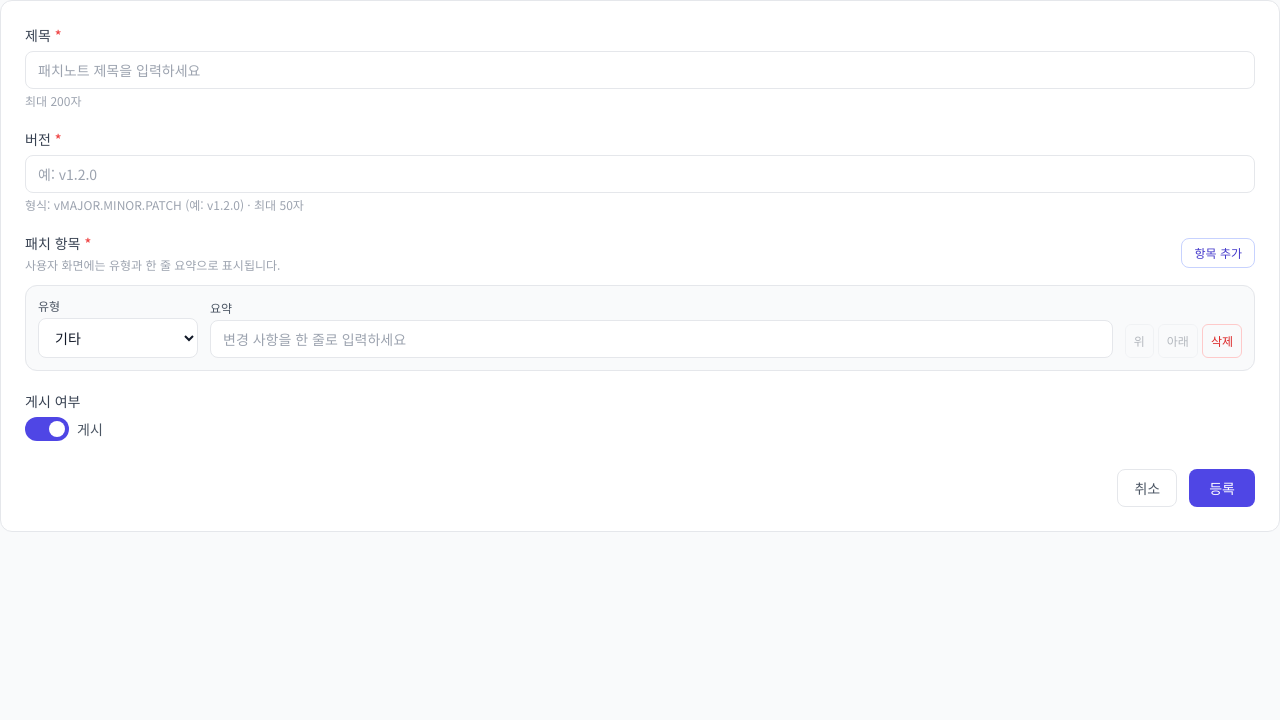
PatchNoteForm › 행별 필수값과 버전 형식을 검증한다
Type "배포 안내" into the field labelled "제목" at coordinates (640, 70), box [25,51,1255,89]
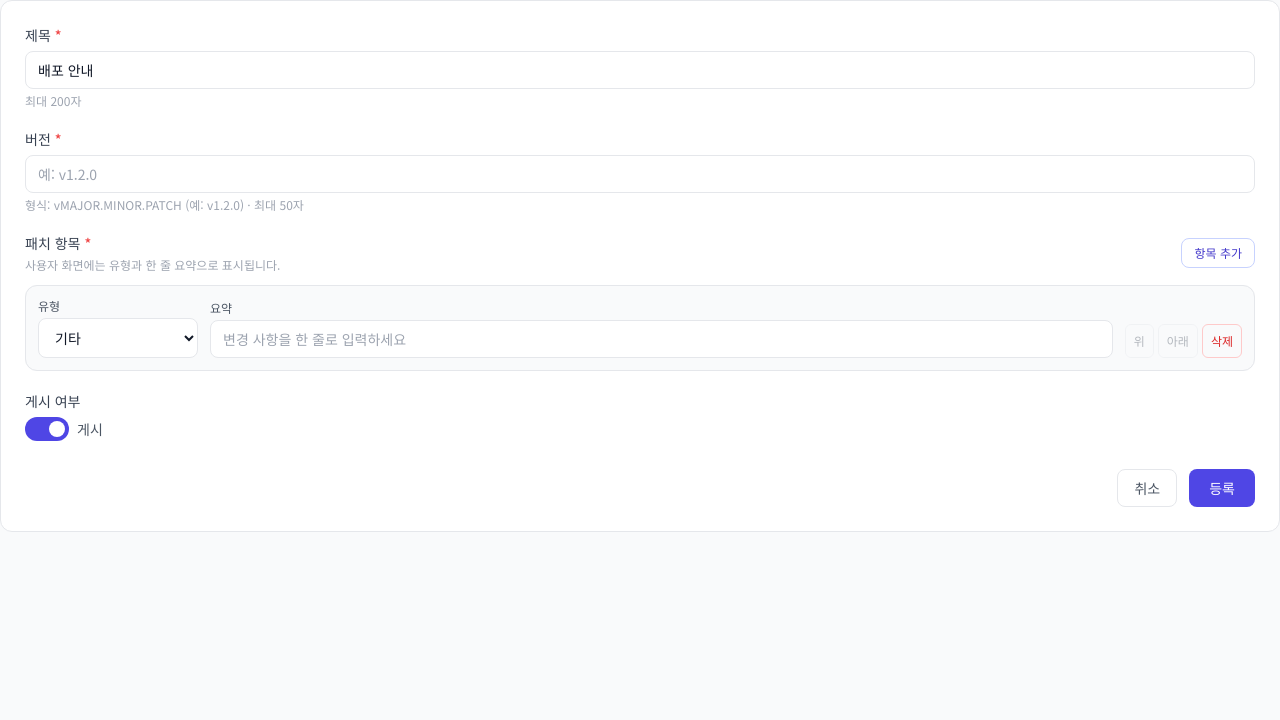
Type "v1.0.0" into the field labelled "버전" at coordinates (640, 174), box [25,155,1255,193]
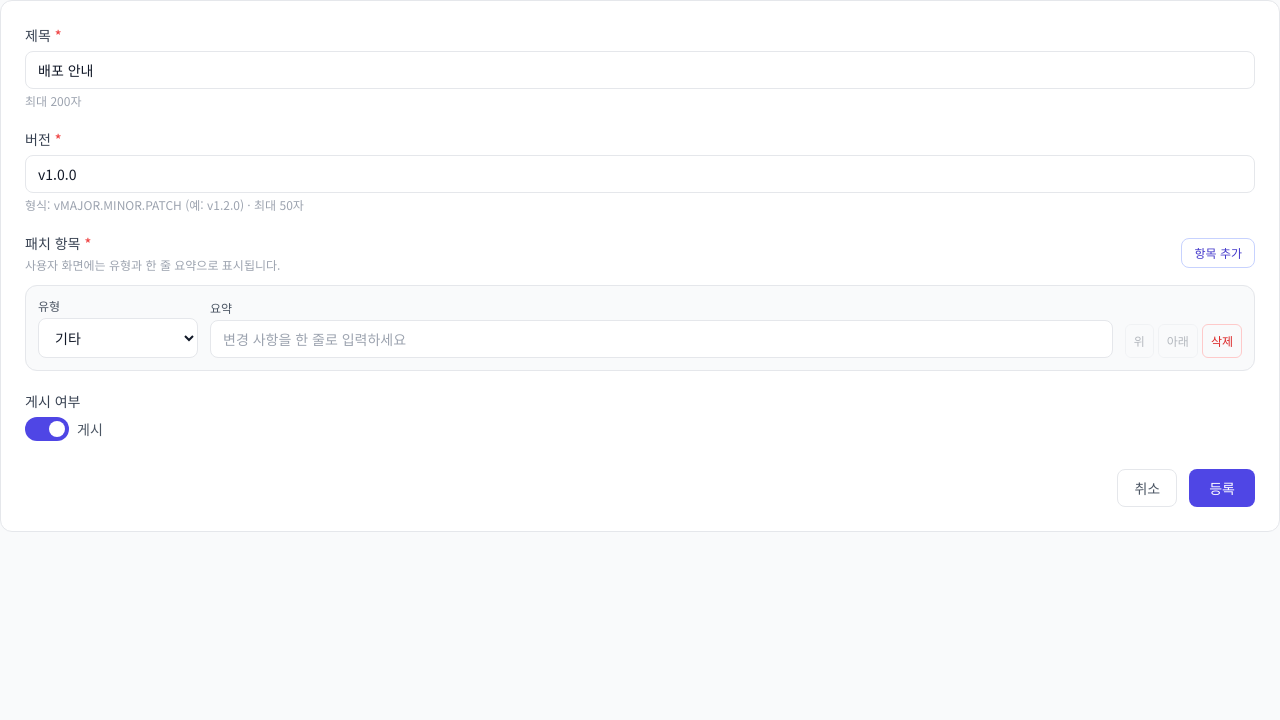
Click the button "등록" at coordinates (1222, 488), box [1189,469,1255,507]
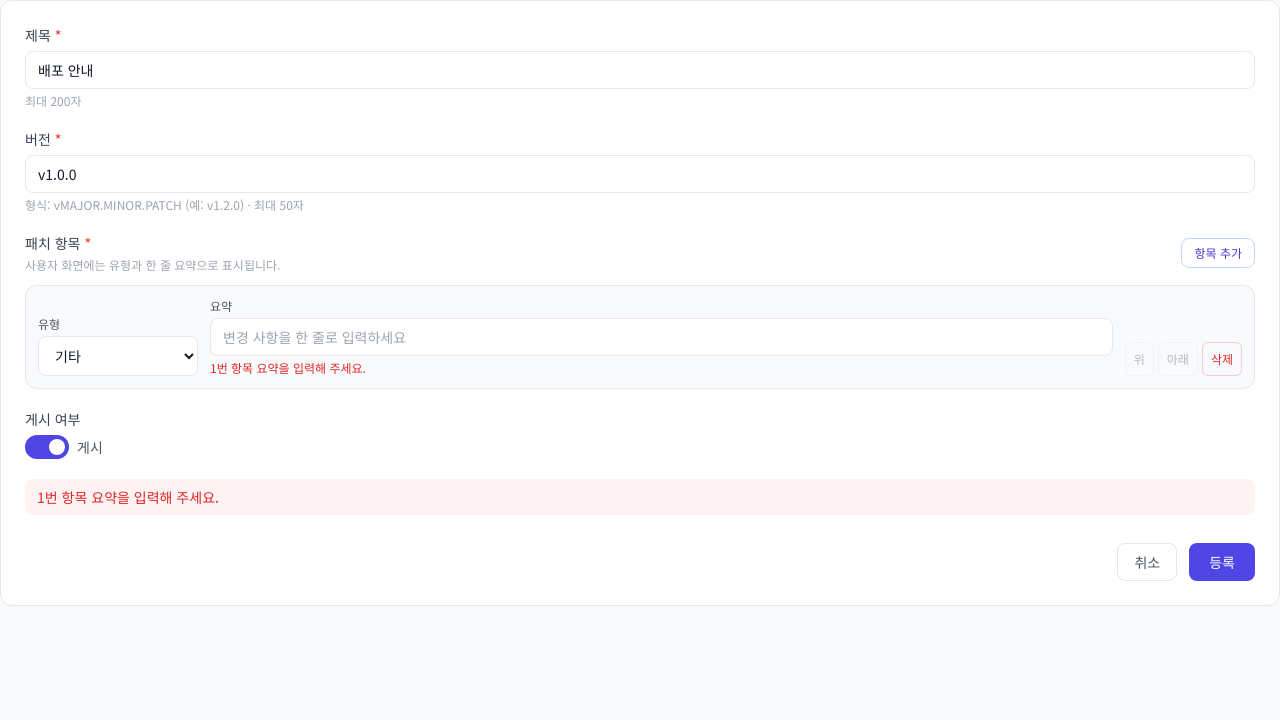
Expected: the message reads "1번 항목 요약을 입력해 주세요.", [37,487,219,507]
Type "변경 사항" into the field named "항목 요약 1" at coordinates (661, 337), box [210,318,1113,356]
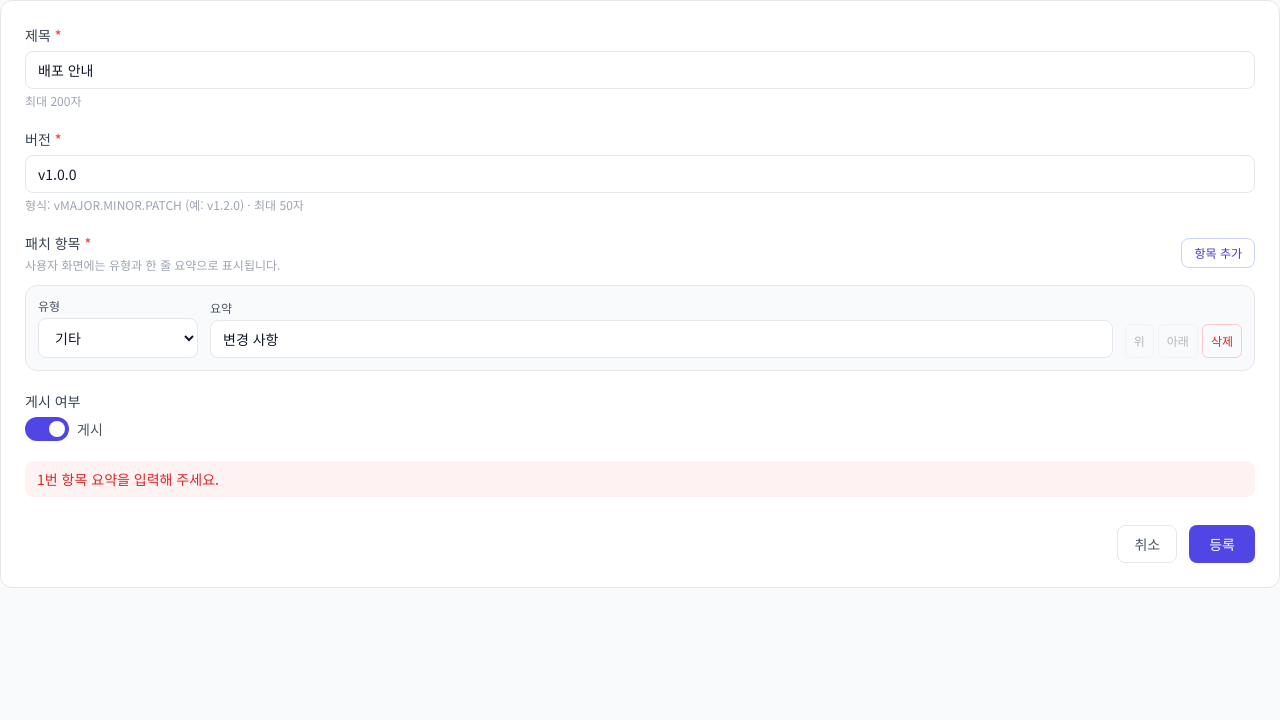
Replace the text in the field labelled "버전" with "1.0" at coordinates (640, 174), box [25,155,1255,193]
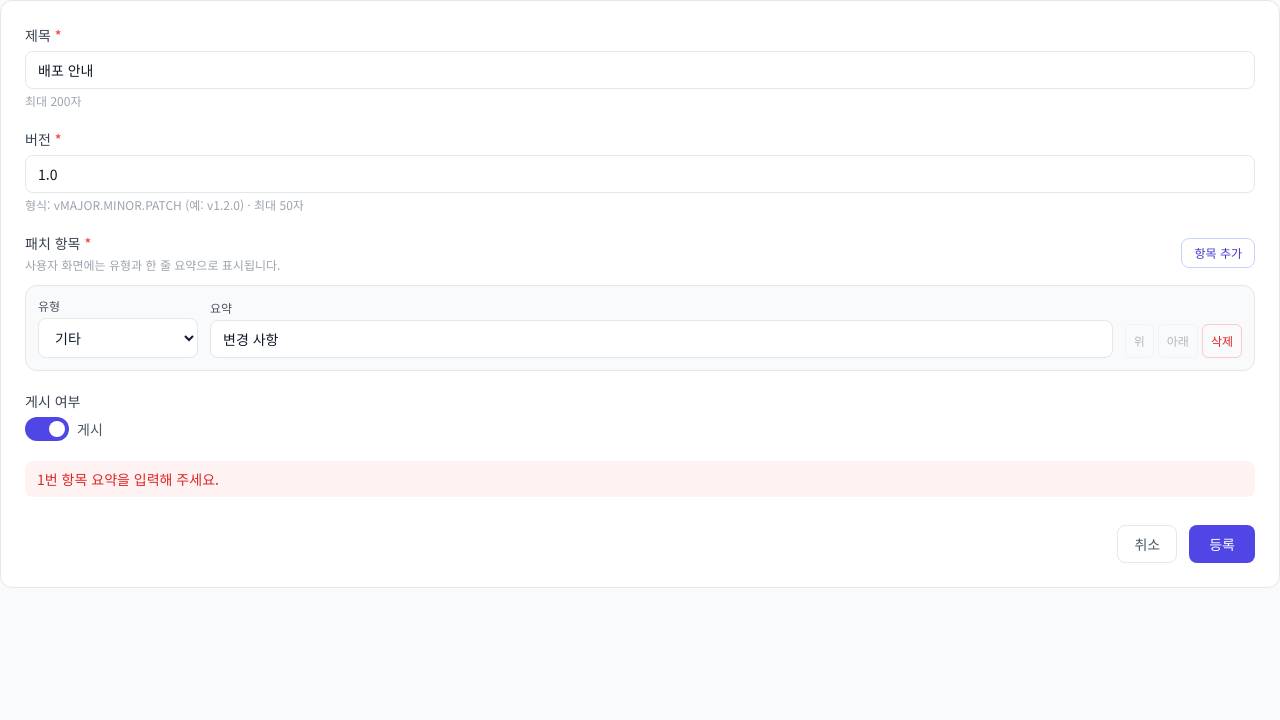
Click the button "등록" at coordinates (1222, 544), box [1189,525,1255,563]
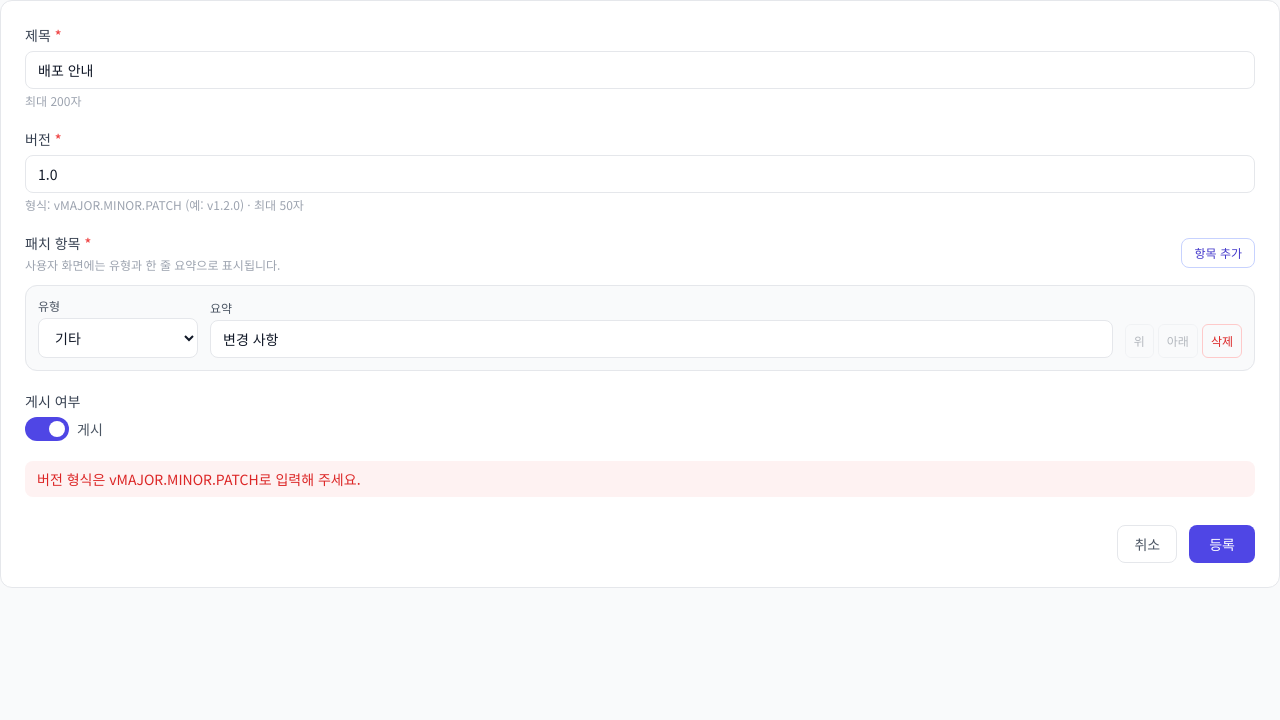
Expected: the message shows "vMAJOR.MINOR.PATCH", [37,469,360,489]
